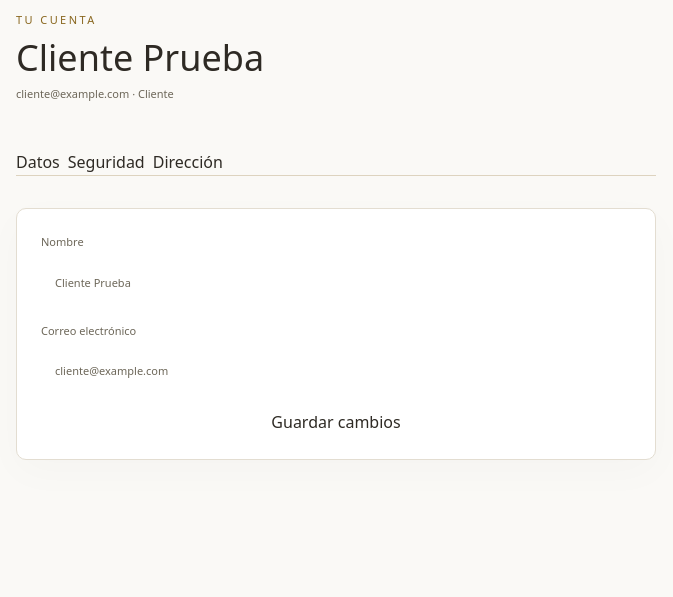
Test: PerfilView: secciones › cambia a Seguridad
The width and height of the screenshot is (673, 597).
Click the tab "Seguridad" at (106, 155), box [68,134,145,176]
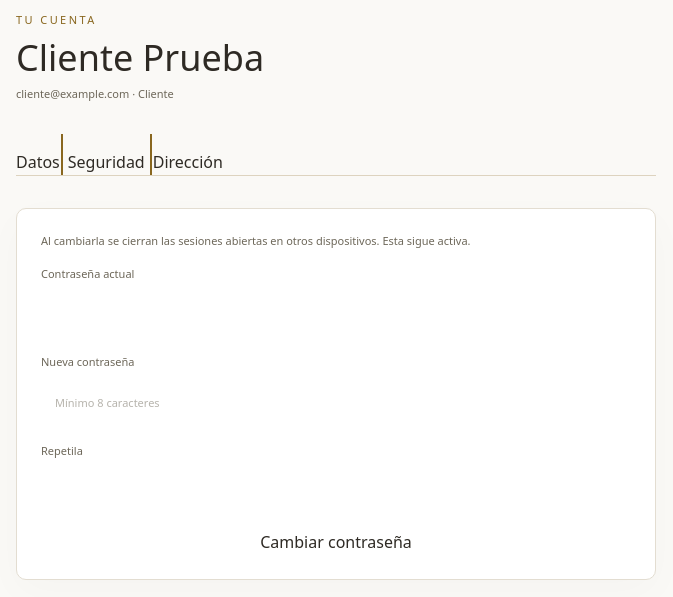
Expected: the label labelled "Nombre" is gone
